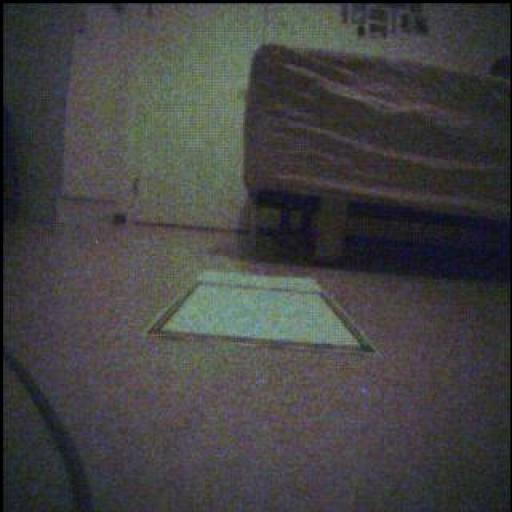pad: (150, 271, 374, 353)
